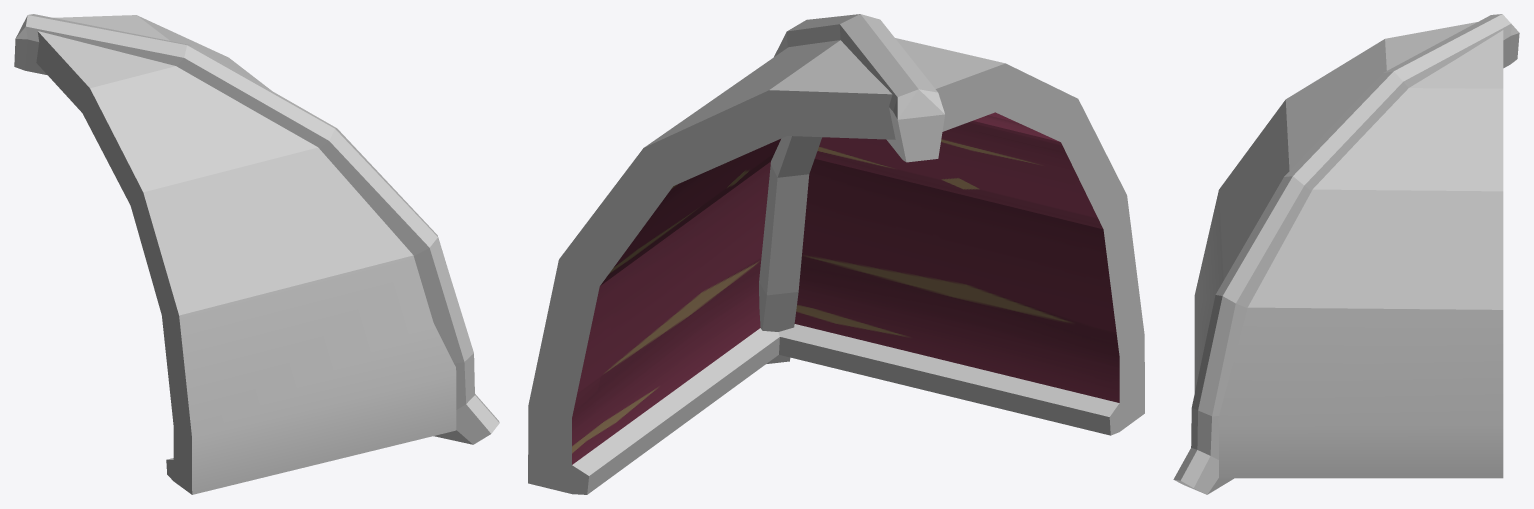
The model's file is SM_Bld_Roof_S_Convex_Corner_Out_01.fbx.
3 views of the same model, side by side, from view 1: azimuth 30°, elevation 25°; view 2: azimuth 150°, elevation 25°; view 3: azimuth 270°, elevation 25° (orthographic). The views are drawn at different scales.
Visible parts, largest first — view 1: SM_Bld_Roof_S_Convex_Corner_Out_01; view 2: SM_Bld_Roof_S_Convex_Corner_Out_01; view 3: SM_Bld_Roof_S_Convex_Corner_Out_01.
Part boxes in pixels (x1,y1,x2,y2): SM_Bld_Roof_S_Convex_Corner_Out_01: (14, 14, 499, 494); SM_Bld_Roof_S_Convex_Corner_Out_01: (528, 14, 1144, 494); SM_Bld_Roof_S_Convex_Corner_Out_01: (1173, 14, 1519, 494).
Bounding box in the file's own units: 152 × 168 × 152.
